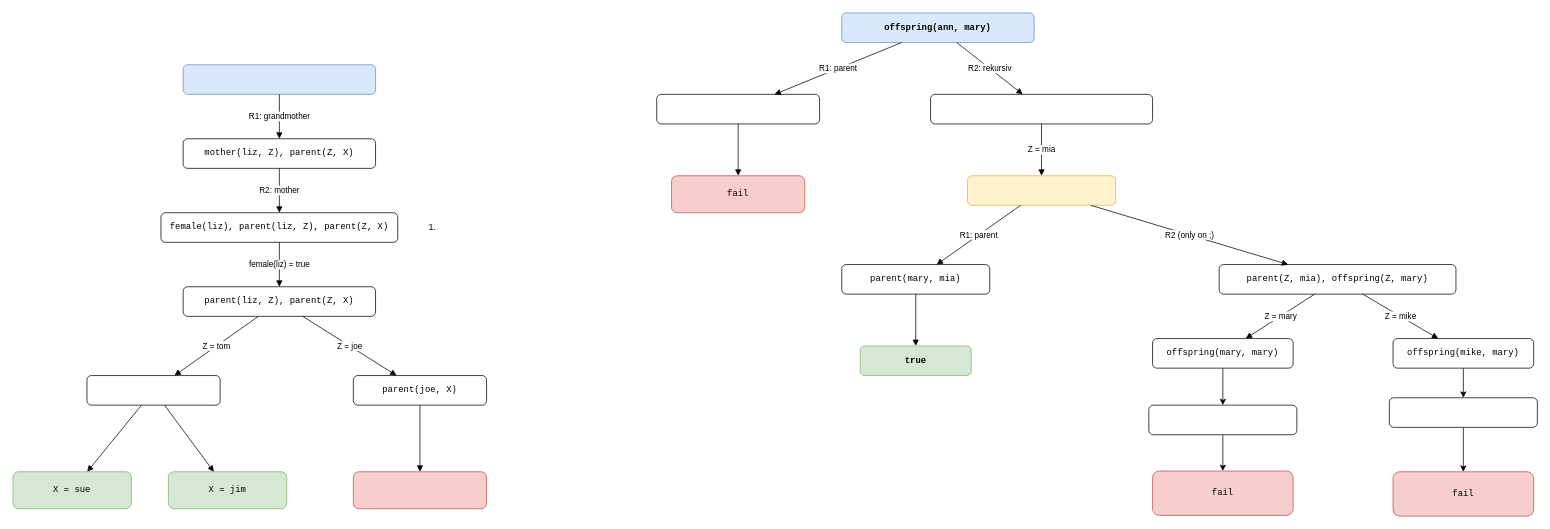
Image size: 1550x529. Some labels were removed from this diagram. Each missing label, with the centre of its shape:
"grandmother(liz, X)" goes at point (279, 79).
"no children" goes at point (420, 490).
"offspring(mia, mary)" goes at point (1041, 190).
"parent(mary, ann)" goes at point (738, 109).
"parent(mary, mary)" goes at point (1222, 419).
"parent(mary, mike)" goes at point (1463, 412).
"parent(tom, X)" goes at point (153, 390).
"parent(Z, ann), offspring(Z, mary)" goes at point (1041, 109).
